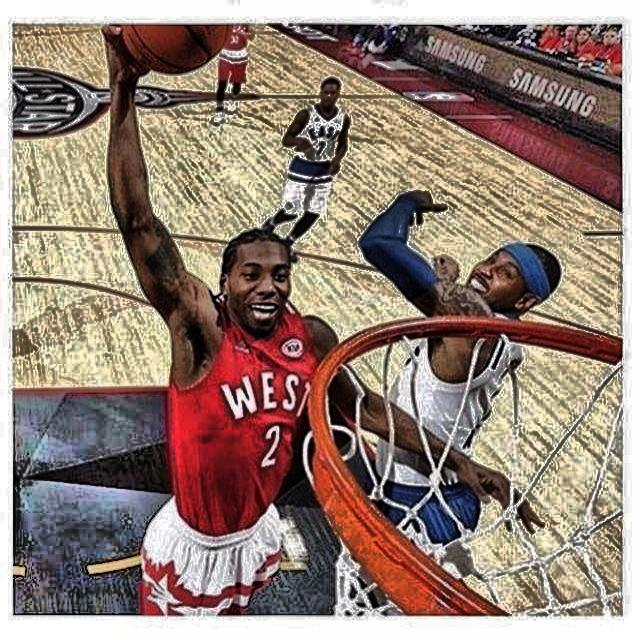board: (113, 23, 232, 74)
